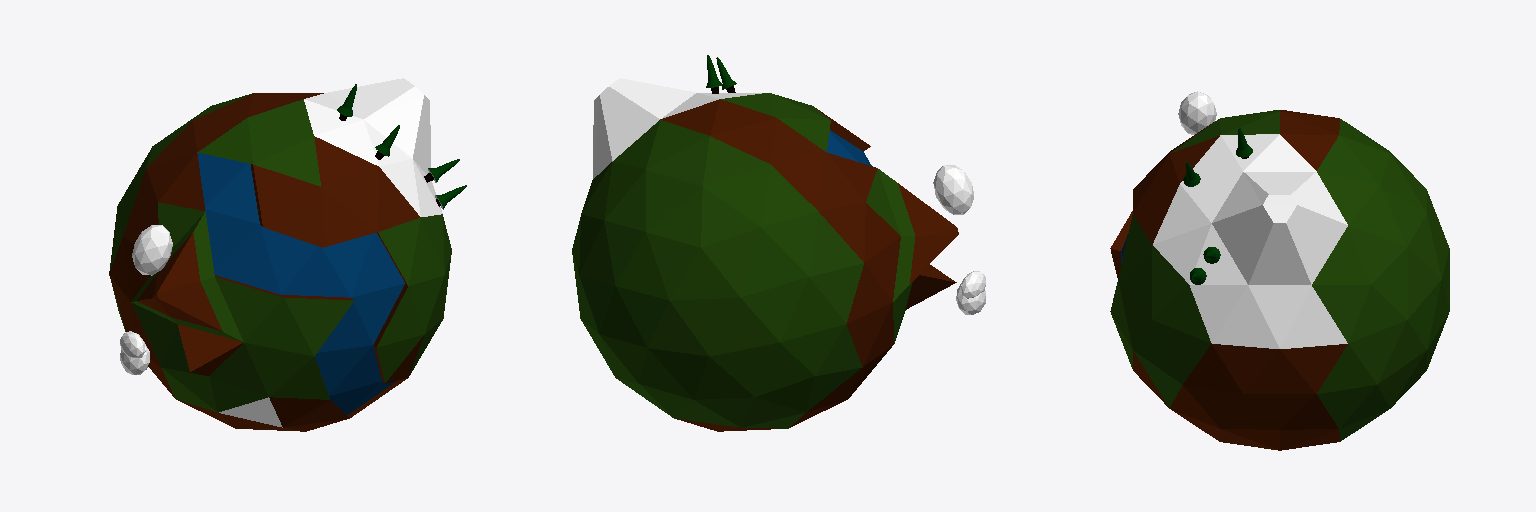
File: Earth_1227.obj
3 renders of one model, left to right at view 1: azimuth 30°, elevation 25°; view 2: azimuth 150°, elevation 25°; view 3: azimuth 270°, elevation 25°, orthographic.
Visible parts, largest first — view 1: GeoSphere001; view 2: GeoSphere001; view 3: GeoSphere001.
Part boxes in pixels (x1,y1,x2,y2): GeoSphere001: (109, 78, 466, 431); GeoSphere001: (572, 55, 985, 431); GeoSphere001: (1110, 91, 1449, 450).
Size of the model in its own units: 83.99 by 76.97 by 70.93.